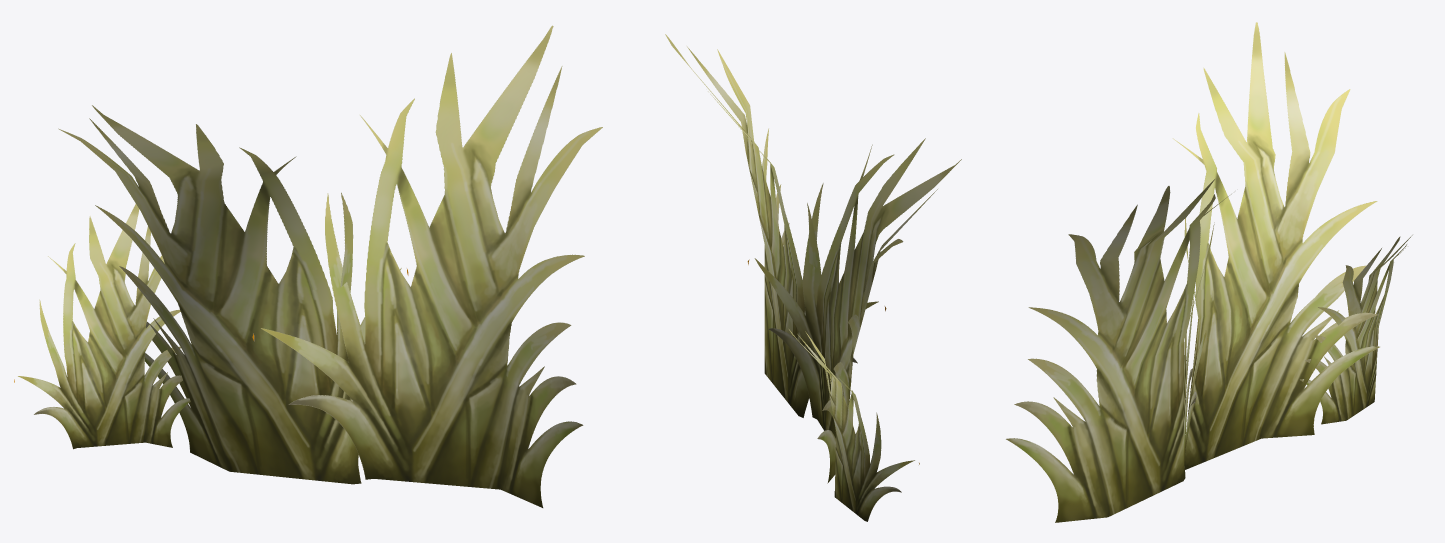
The model's file is Hay1.FBX.
3 renders of one model, left to right at view 1: azimuth 30°, elevation 25°; view 2: azimuth 150°, elevation 25°; view 3: azimuth 270°, elevation 25°, orthographic. The views are drawn at different scales.
Parts seen in each view (by area): view 1: Hay1; view 2: Hay1; view 3: Hay1.
Part boxes in pixels (x1=…): Hay1: x1=14, y1=25, x2=602, y2=507; Hay1: x1=665, y1=34, x2=961, y2=521; Hay1: x1=1006, y1=22, x2=1412, y2=522.
Size of the model in its own units: 111 by 101 by 105.
